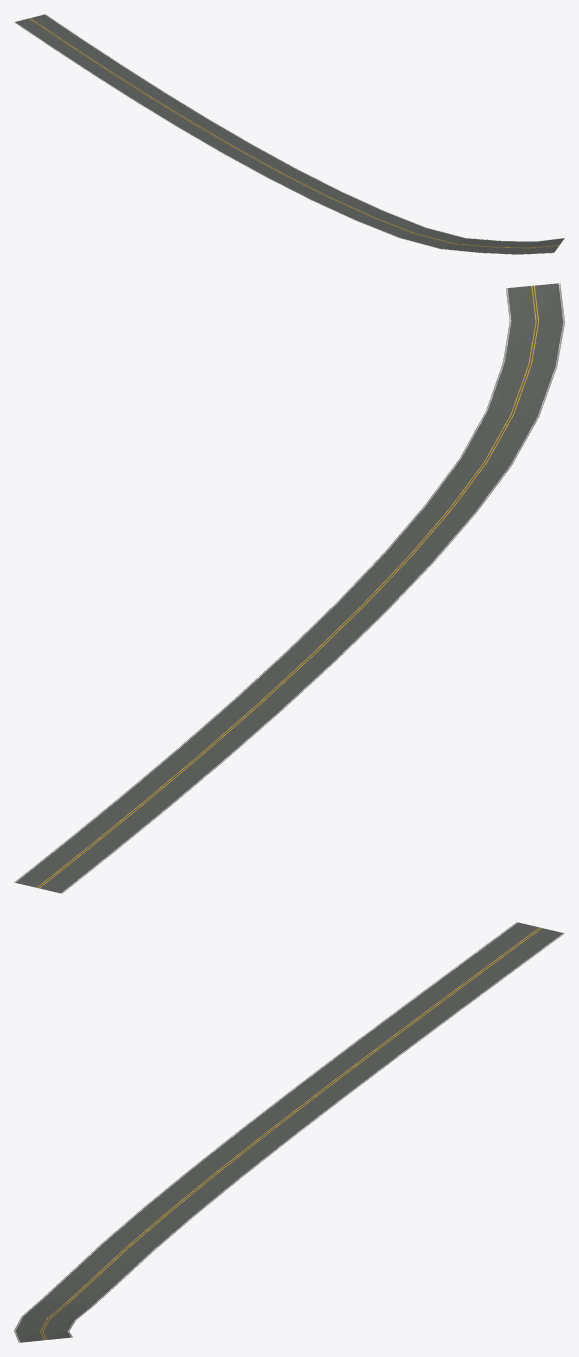
File: cuntwroad60.obj
The picture shows the model from 3 angles, top to bottom: view 1: azimuth 30°, elevation 25°; view 2: azimuth 150°, elevation 25°; view 3: azimuth 330°, elevation 25°; orthographic projection. The views are drawn at different scales.
Visible parts, largest first — view 1: cuntwroad60; view 2: cuntwroad60; view 3: cuntwroad60.
Part boxes in pixels (bbox=[...]): cuntwroad60: bbox=[14, 14, 564, 254]; cuntwroad60: bbox=[14, 283, 564, 893]; cuntwroad60: bbox=[14, 922, 564, 1342].
Bounding box in the file's own units: 47.91 × 22.89 × 285.
Materials: 1 (1 with a texture image).
